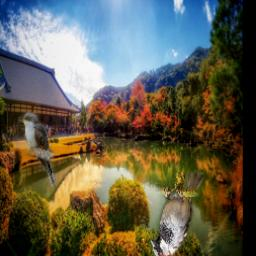Cuckoo: (19, 113, 57, 189)
Sparrow: (151, 173, 204, 256)
